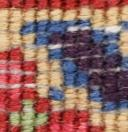Knot: (8, 74, 19, 83), (8, 67, 15, 74), (87, 126, 95, 130)
